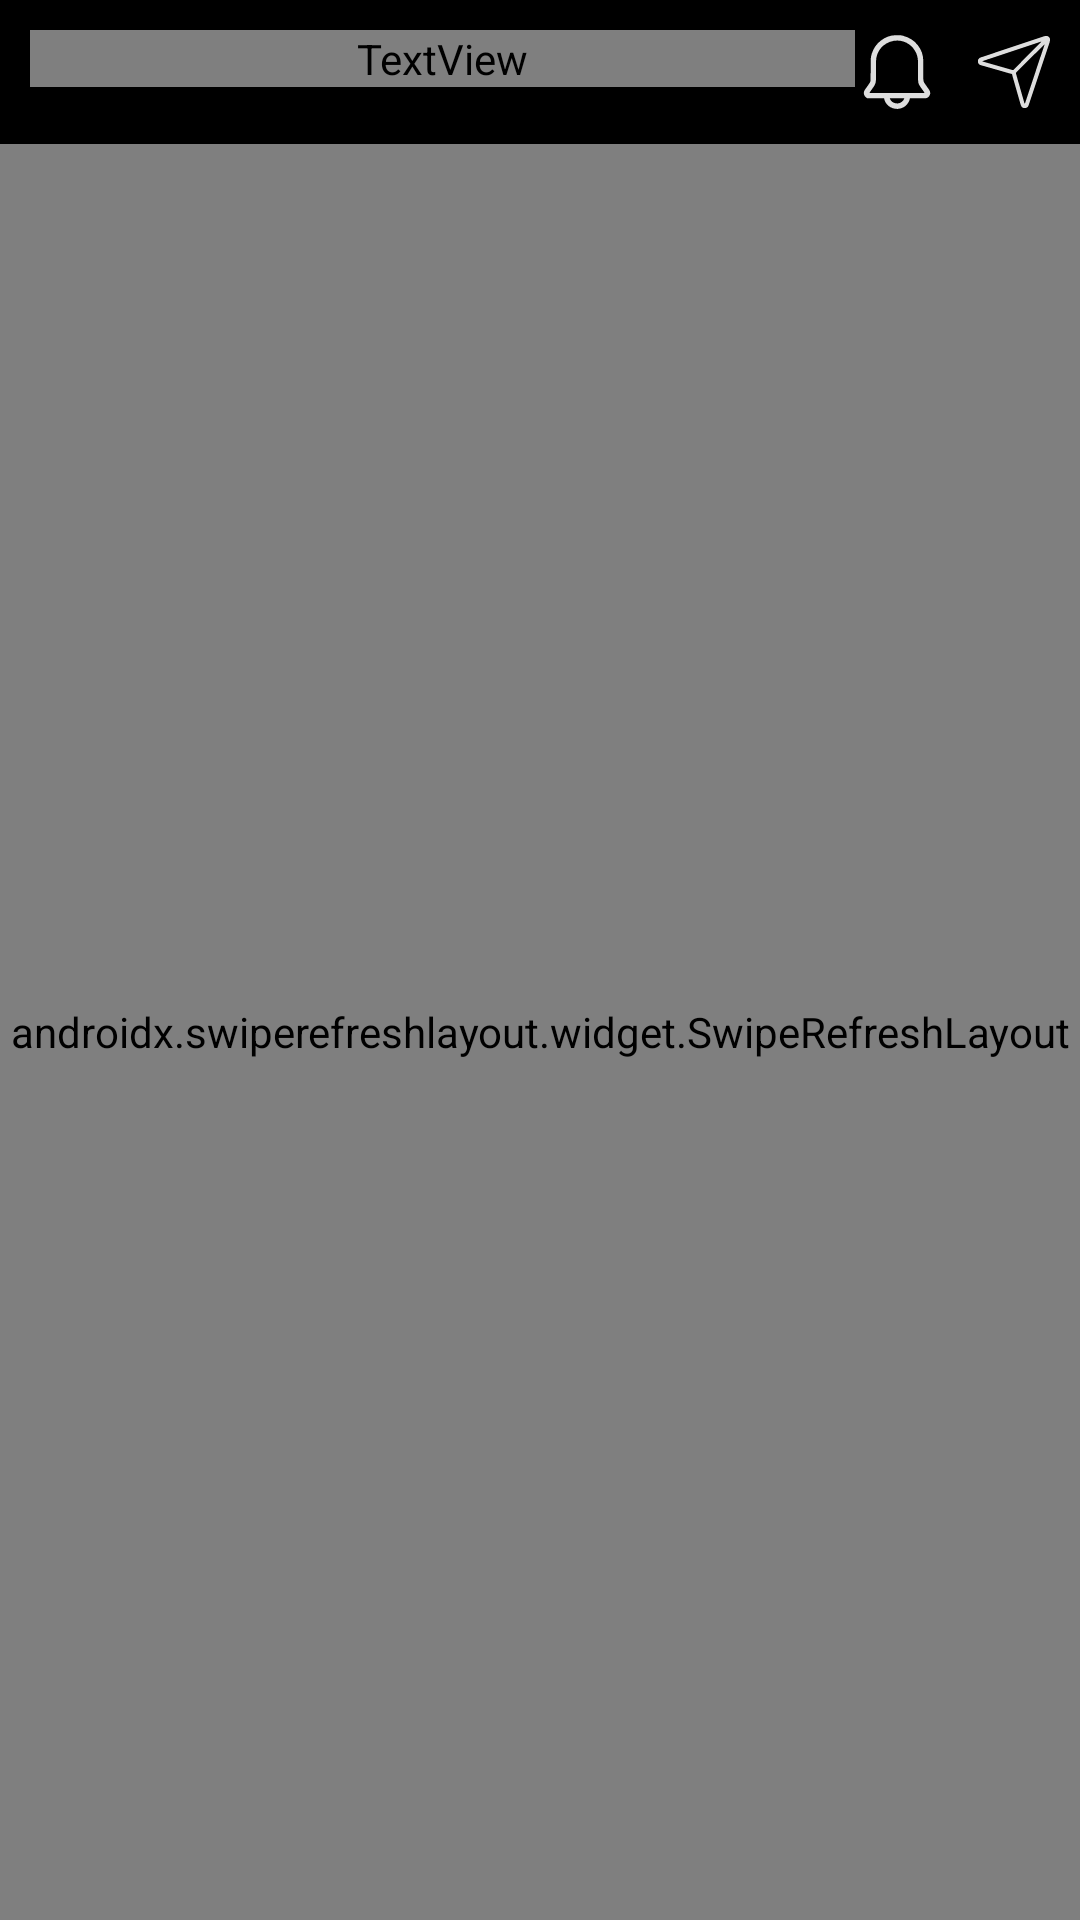

Screen size 1080×1920. Icon name, then its center in pixels as [x,y]:
notifications: [897,72]
send: [1014,72]
